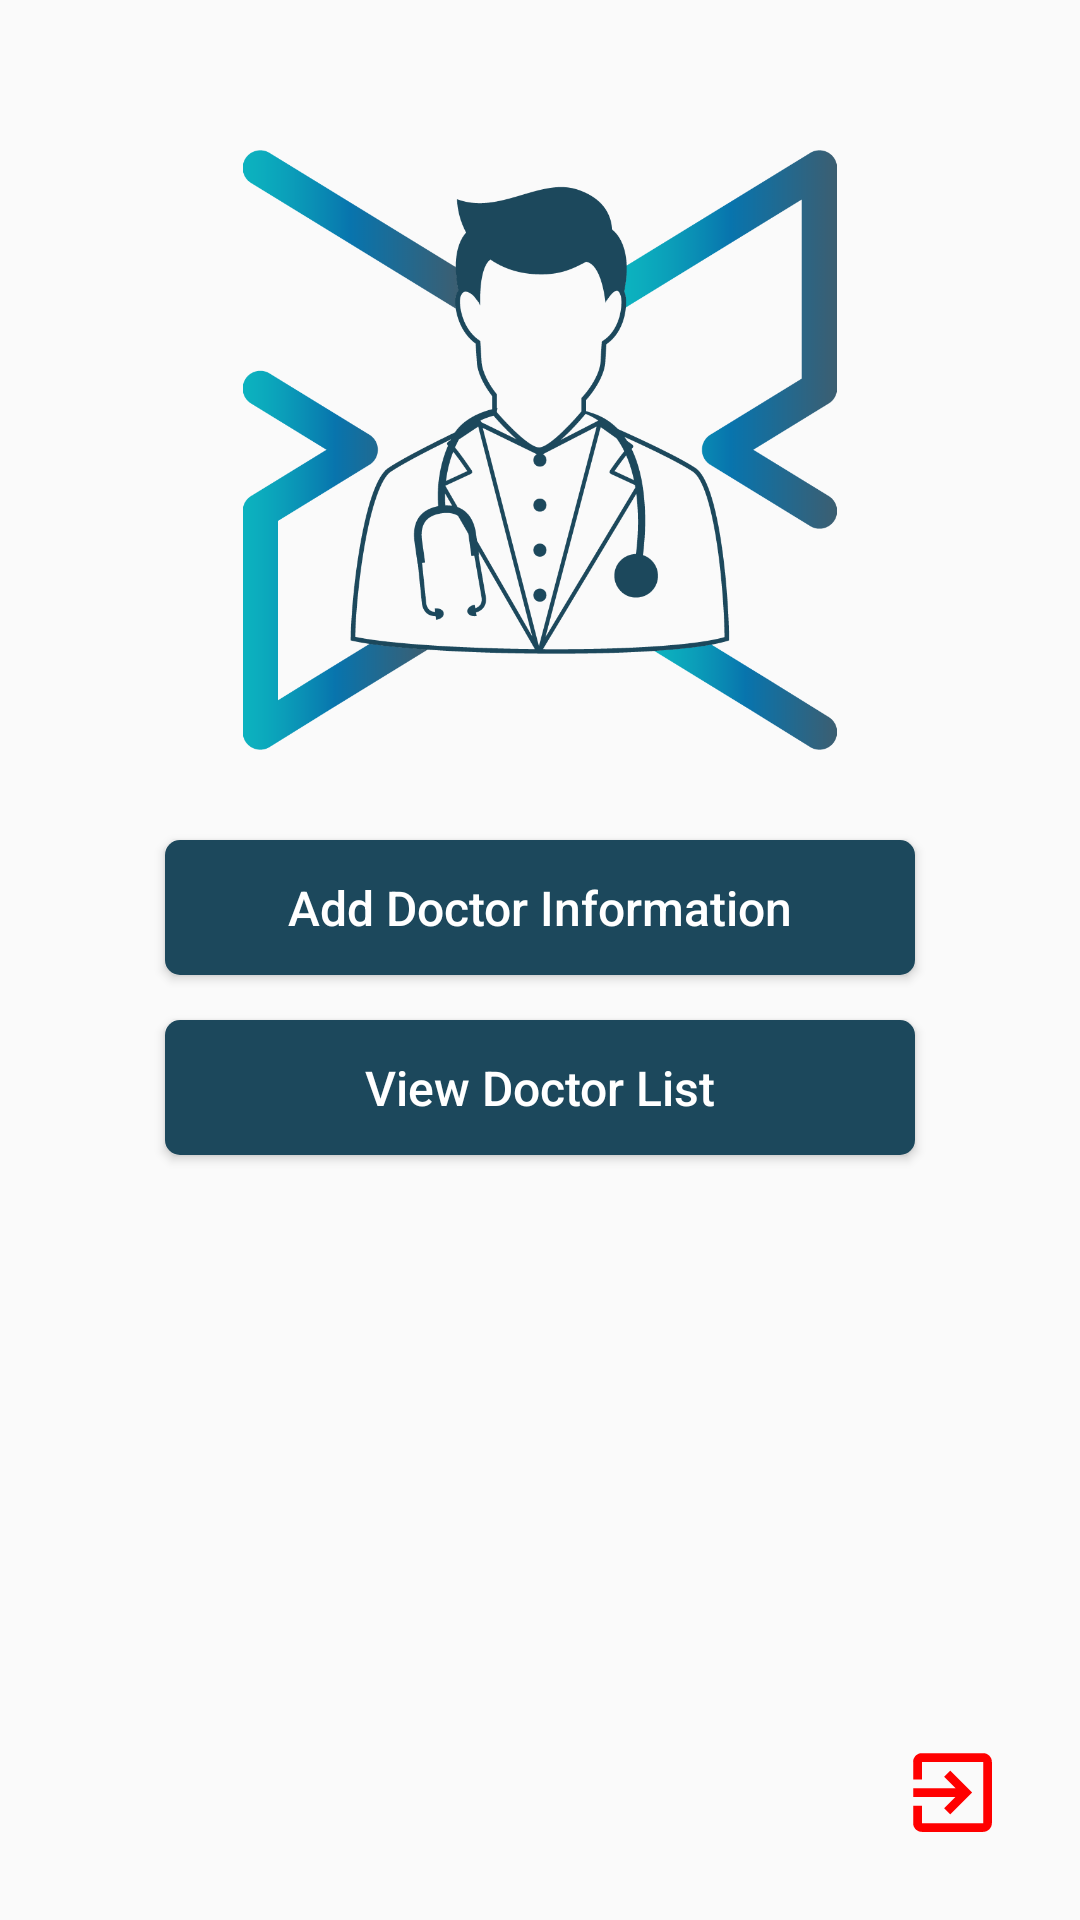

Screen size 1080px×1920px. Icon name, then its center in pixels as point (x, y):
signout: point (952, 1792)
